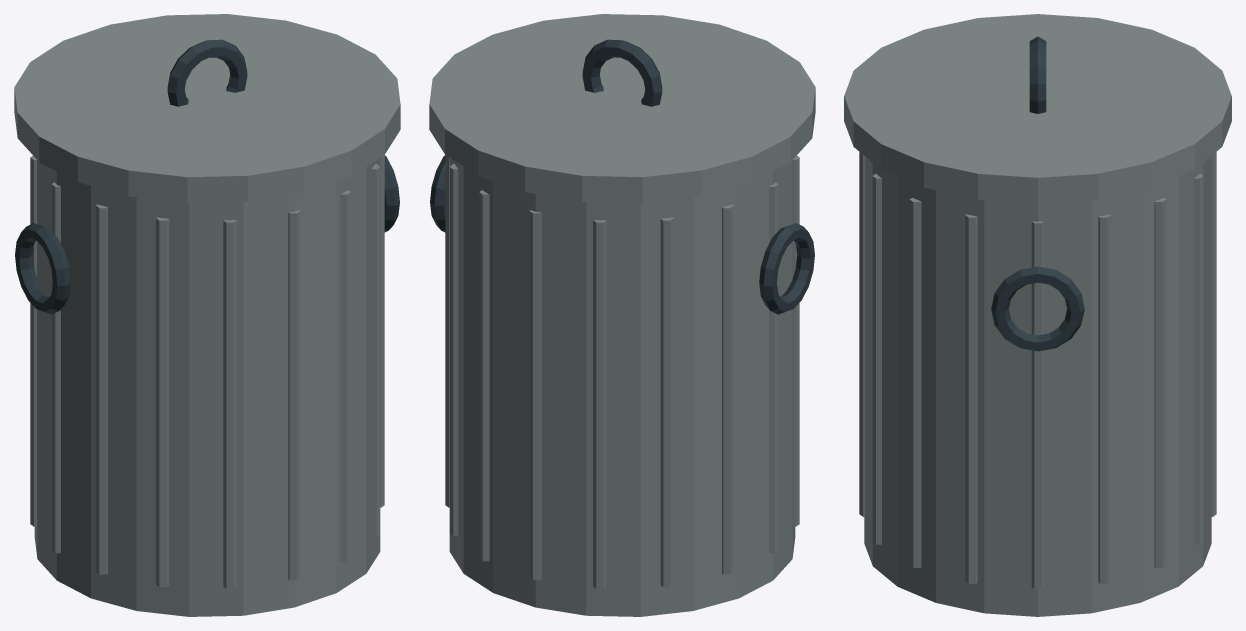
The model's file is metal_can.glb.
The picture shows the model from 3 angles, left to right: view 1: azimuth 30°, elevation 25°; view 2: azimuth 150°, elevation 25°; view 3: azimuth 270°, elevation 25°; orthographic projection.
Visible parts, largest first — view 1: metal_can; view 2: metal_can; view 3: metal_can.
Part boxes in pixels (bbox=[...]): metal_can: bbox=[14, 14, 400, 616]; metal_can: bbox=[429, 14, 815, 616]; metal_can: bbox=[844, 14, 1231, 616].
Size of the model in its own units: 0.4891 by 0.687 by 0.48.
